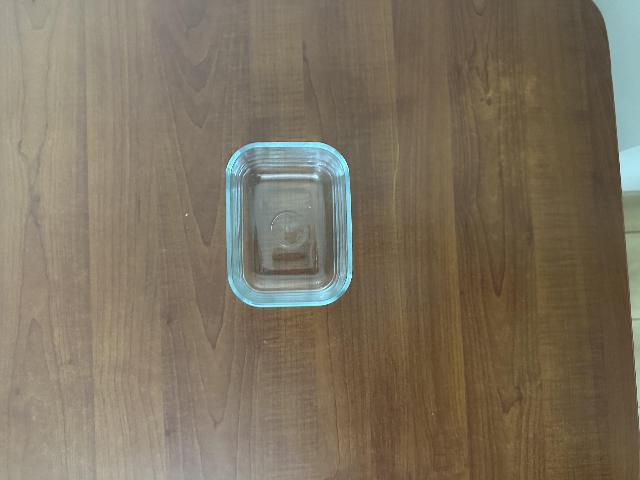Cam: (227, 135, 351, 306)
